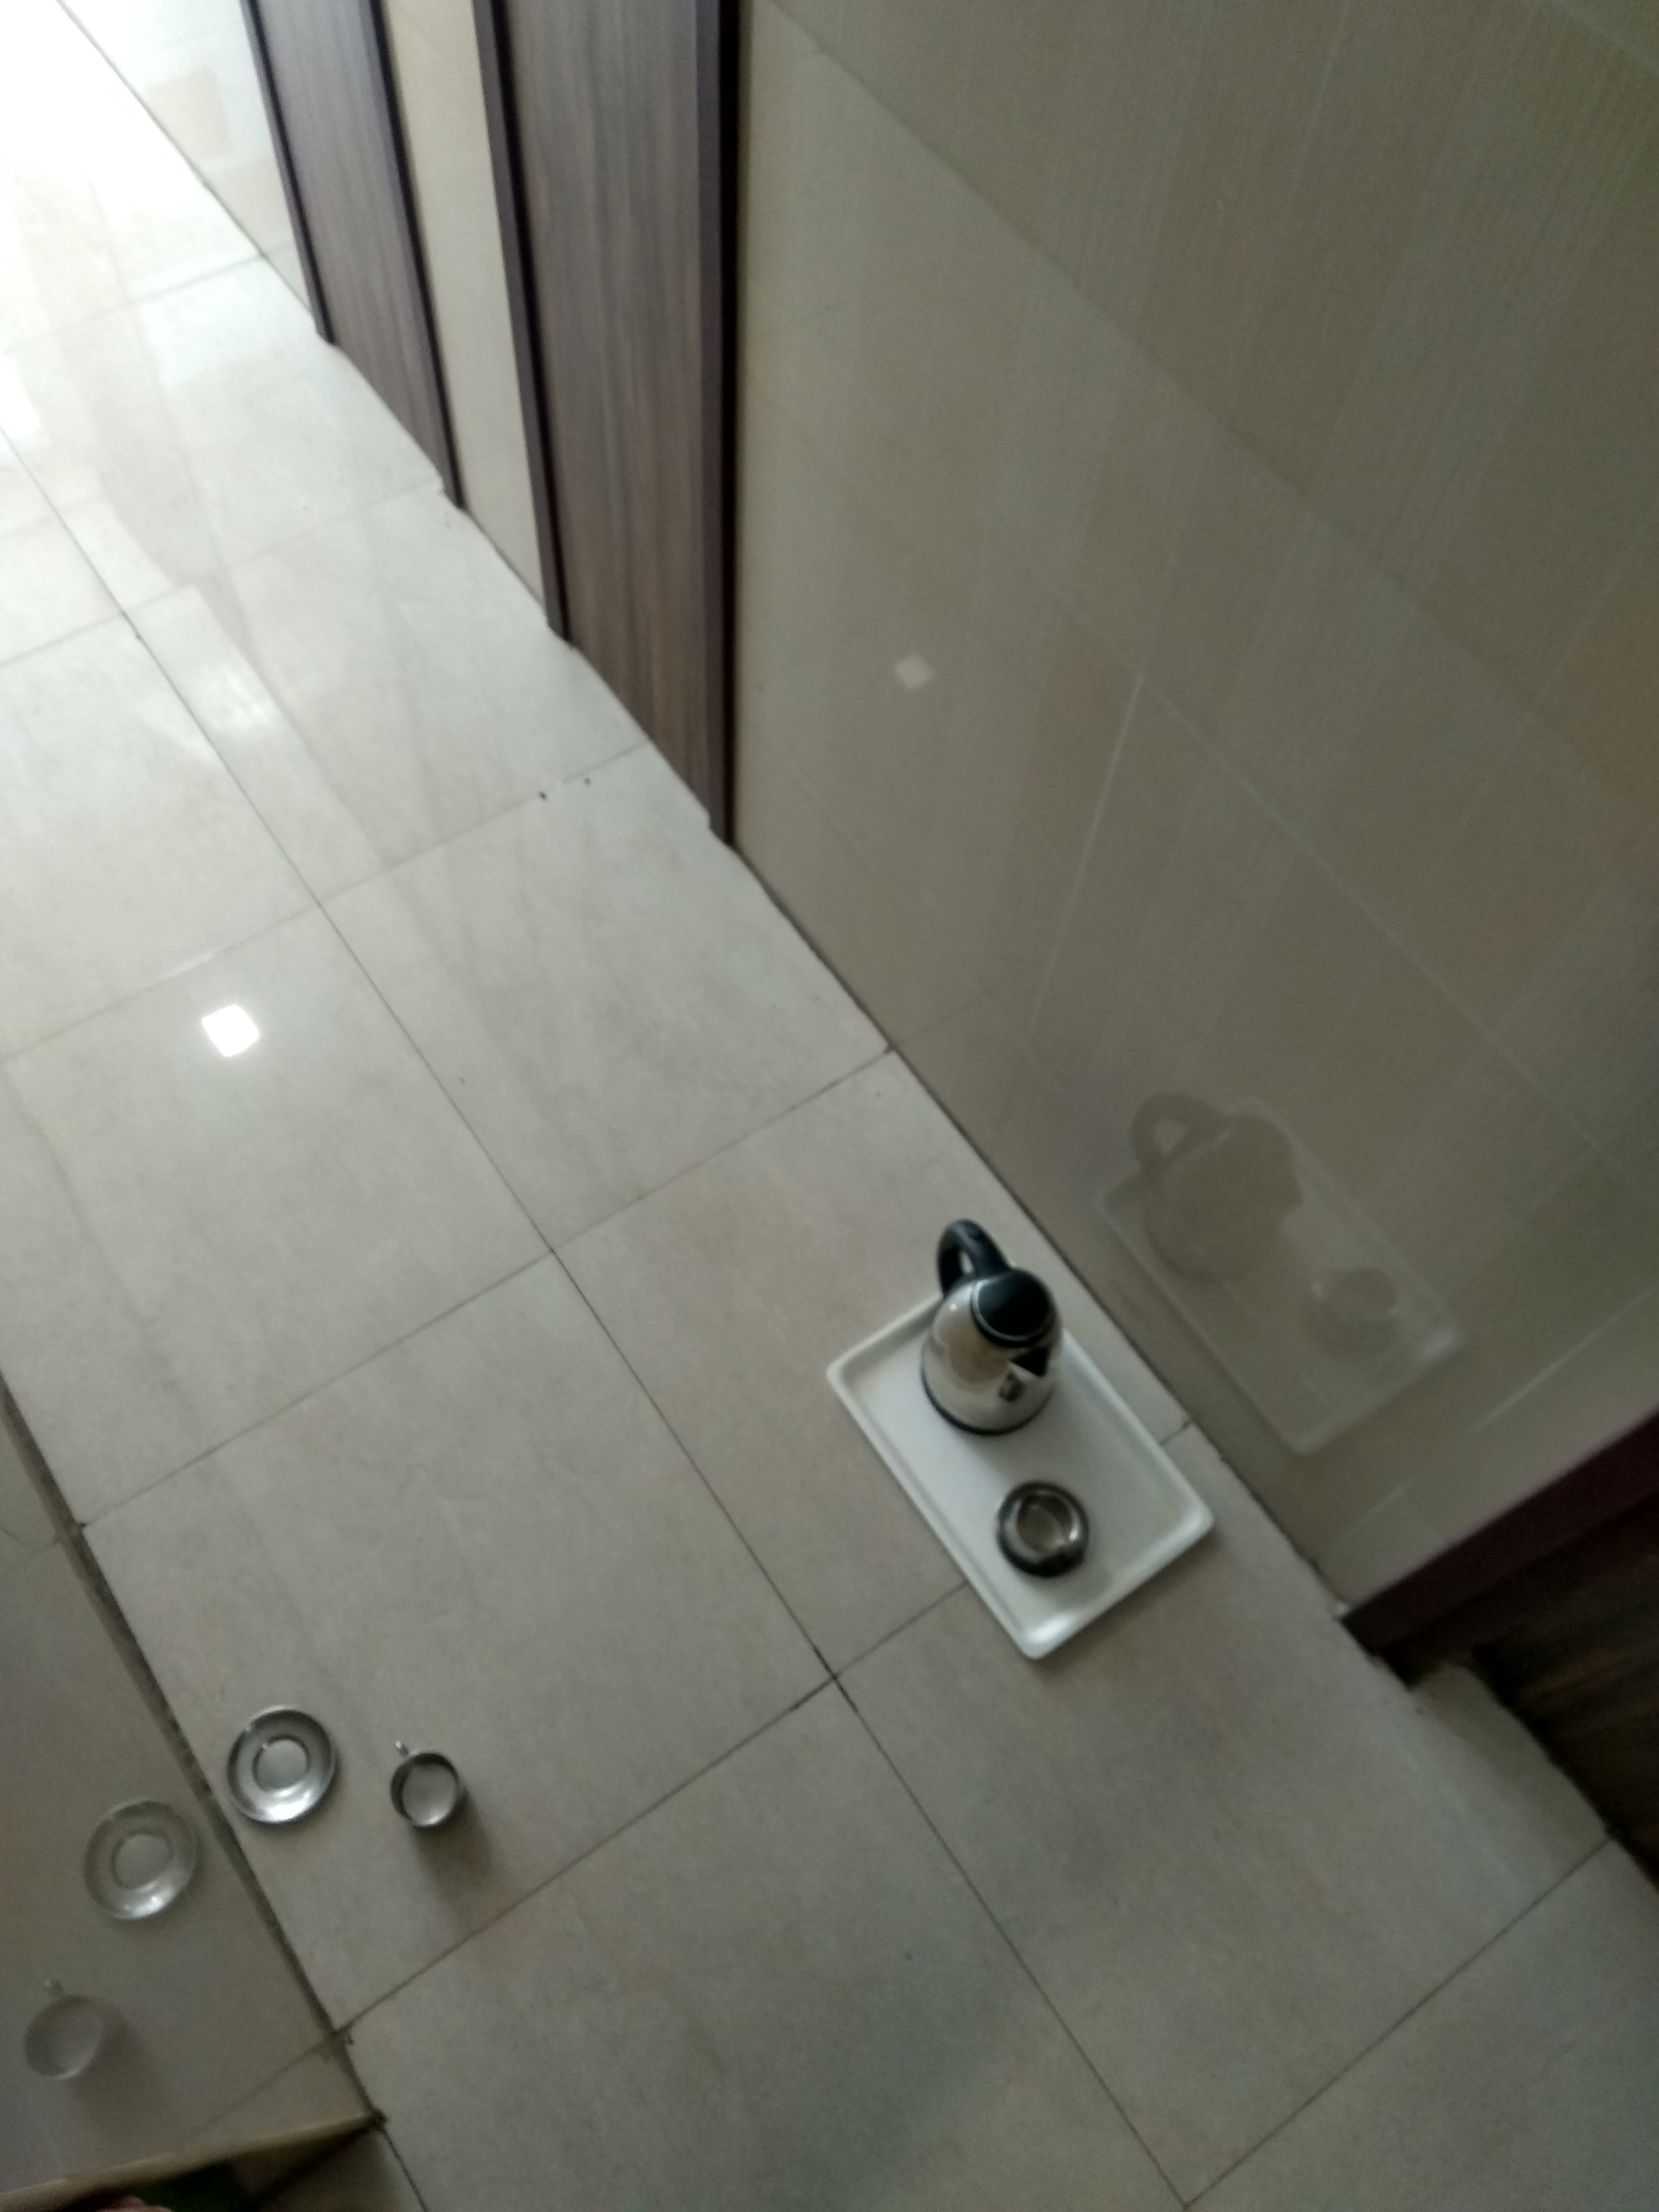CUP: (389, 1749, 491, 1844), (1004, 1500, 1073, 1566)
FLASK: (955, 1223, 1060, 1444)
